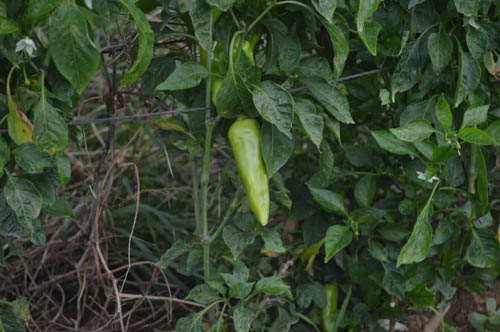ChiliPepper: (230, 119, 274, 223)
